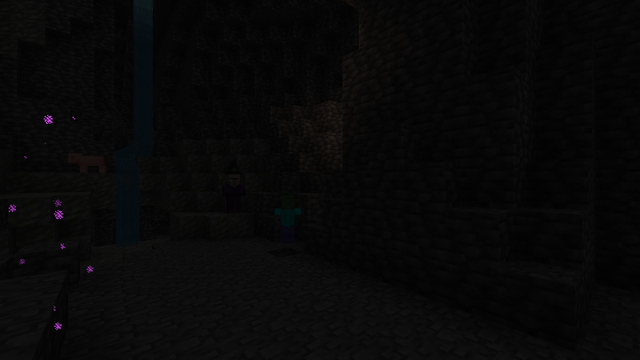cochons: (80, 155, 102, 173)
sorcieres: (224, 172, 242, 216)
zombies: (277, 196, 298, 249)
